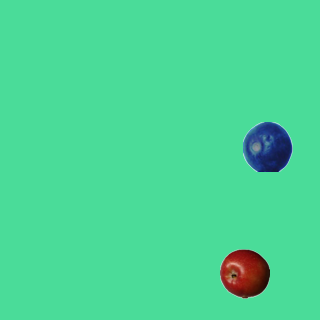Apple Braeburn: (219, 248, 269, 298)
Huckleberry: (242, 121, 292, 171)
